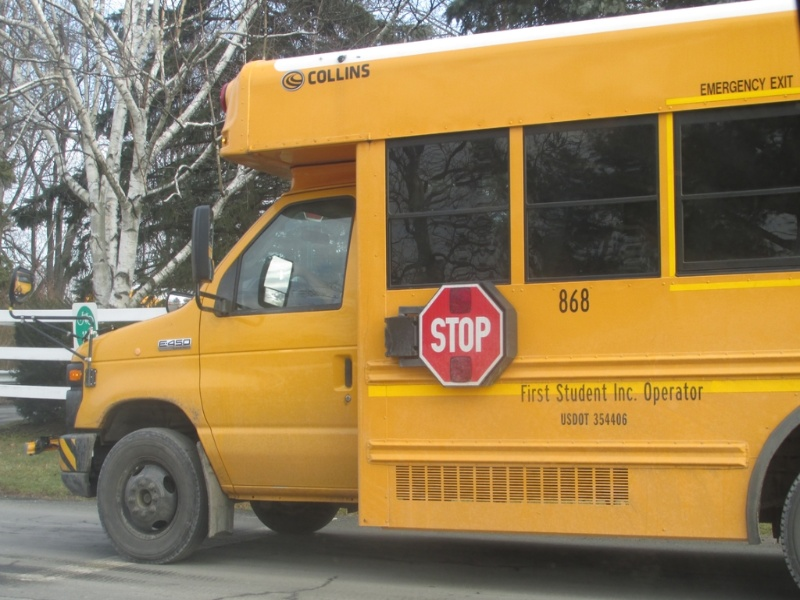stop: (414, 284, 513, 388)
